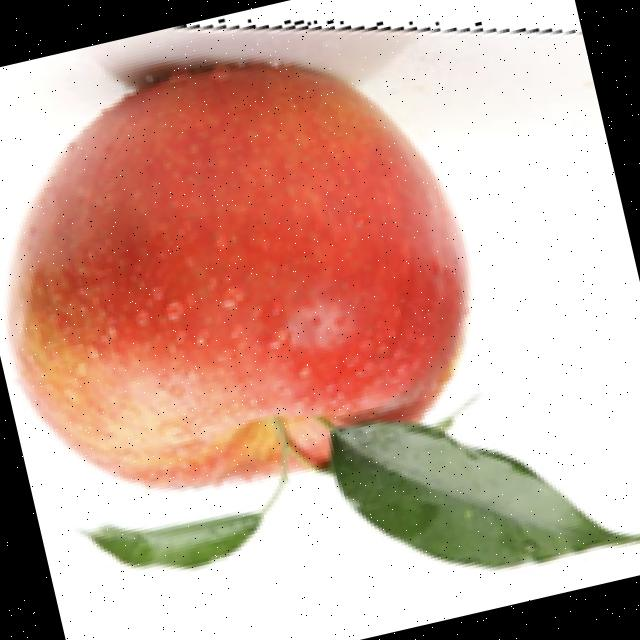apple: (0, 17, 640, 575)
